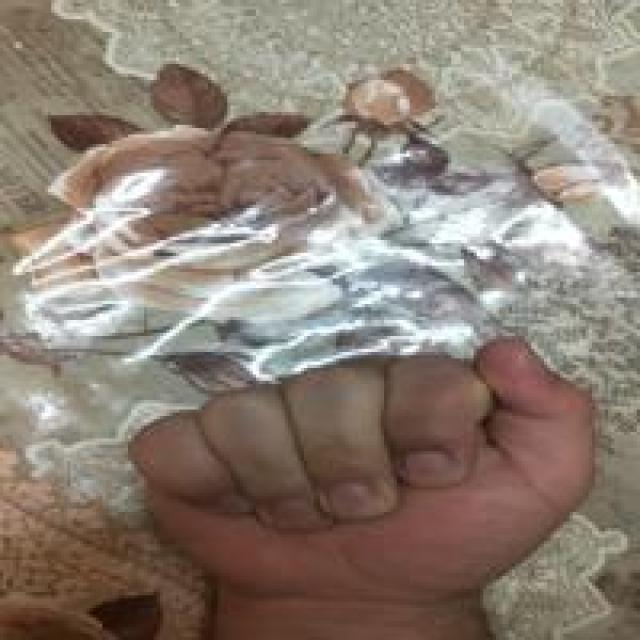A: (120, 336, 610, 608)
